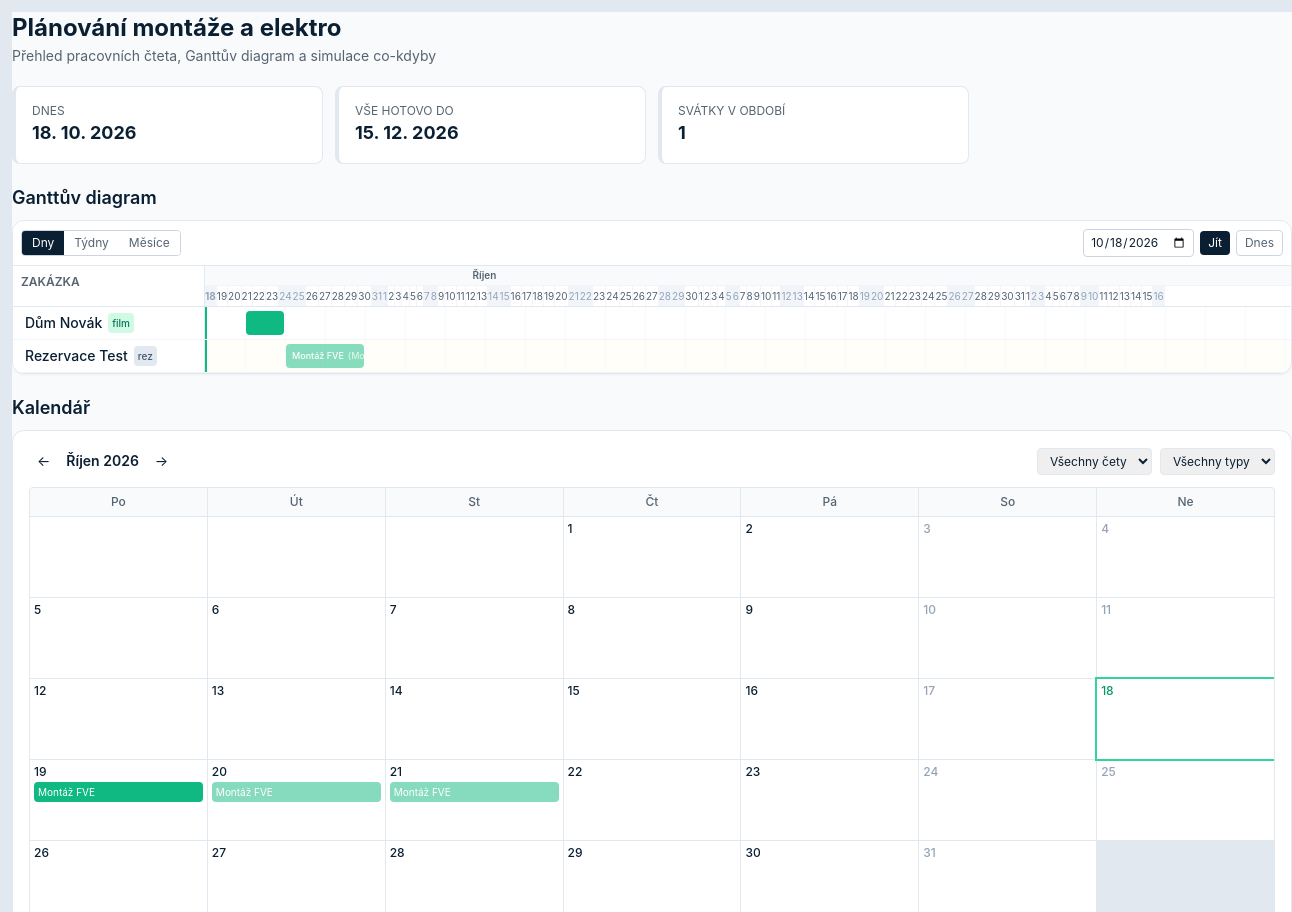
Test case: Planovani — Gantt zoom a skok › zoom týdny ukáže týdenní rozsahy
Check: the text "Dům Novák" is shown, box [25, 313, 102, 333]
Click the button "Týdny" at (92, 243), box [64, 231, 119, 255]
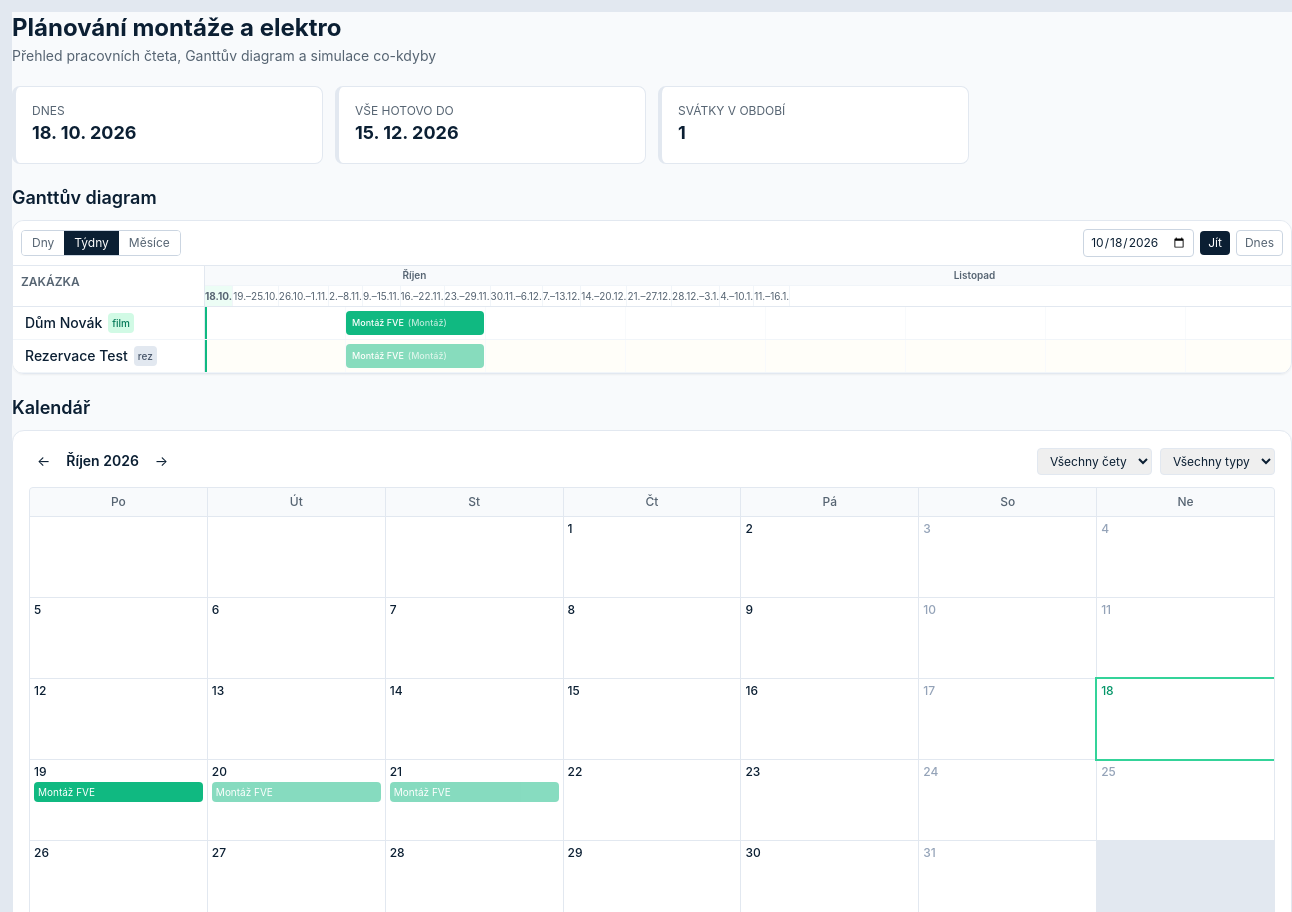
Check: the text "19.–25.10." is shown, box [233, 286, 279, 306]
